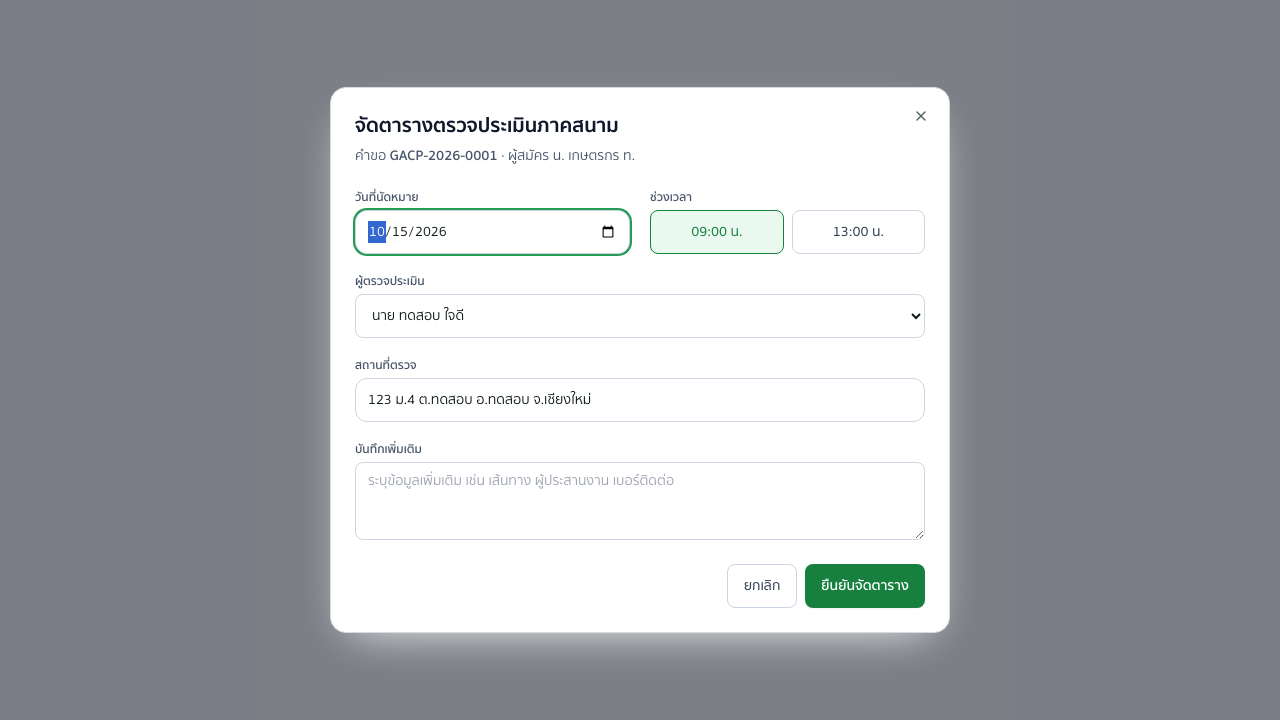
Test: AssignAuditorModal — X3-FIX-C H-11 / H-12 a11y › H-12: the 14-day availability widget no longer declares role="grid"
The image size is (1280, 720).
Select "นาย ทดสอบ ใจดี" in the dropdown with id "assign-auditor" at (640, 316), box x1=355 y1=294 x2=925 y2=338
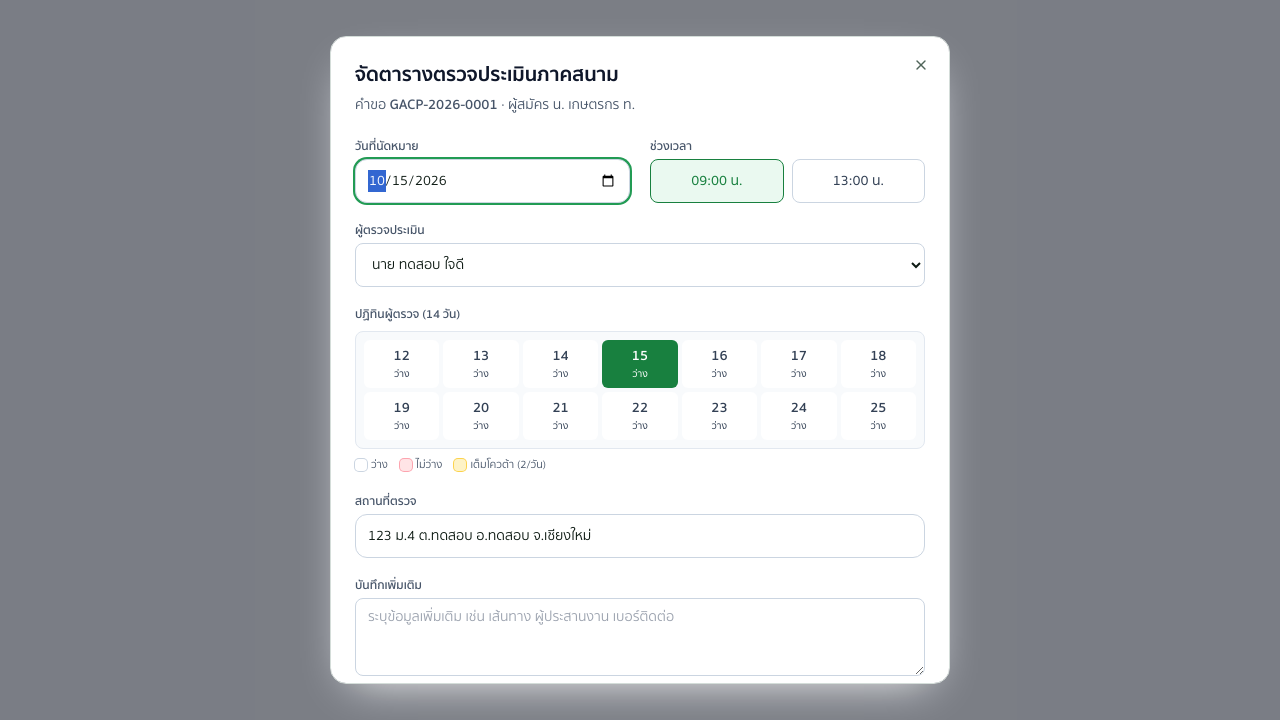
Expected: the element named "ปฏิทินผู้ตรวจ 14 วัน" is shown, x1=355 y1=331 x2=925 y2=449
